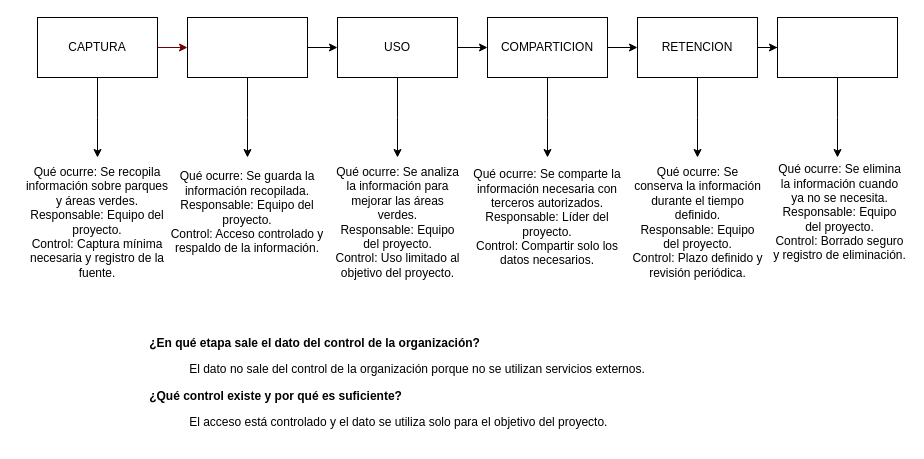
Image size: 924x459. Some labels were removed from this diagram. The centre of each missing label's shape, as x and y in pixels:
"ALMACENAMIENTO" belongs at point 247,47.
"ELIMINACION" belongs at point 837,47.
